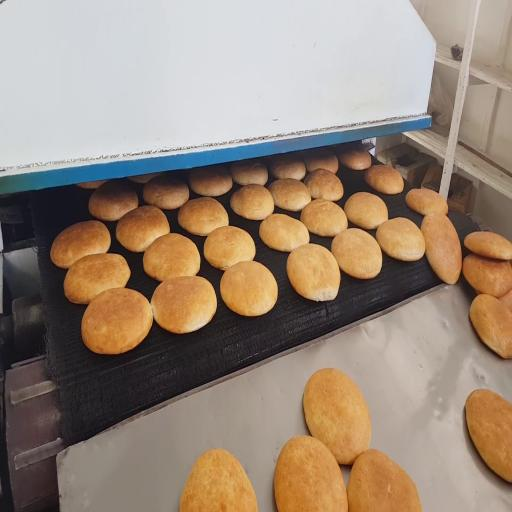bread: (303, 368, 370, 464), (274, 436, 347, 511), (180, 449, 257, 511), (82, 288, 152, 354), (347, 449, 421, 511), (466, 390, 511, 482), (151, 276, 216, 333), (64, 254, 130, 304), (220, 261, 277, 316), (287, 244, 340, 301), (421, 213, 462, 284), (51, 221, 110, 268), (143, 234, 200, 281), (470, 294, 511, 358), (332, 229, 382, 279), (116, 206, 169, 252), (204, 226, 255, 270), (376, 218, 425, 261), (463, 254, 511, 297), (89, 181, 138, 221), (178, 197, 228, 236), (259, 214, 309, 252), (301, 199, 347, 237), (143, 174, 189, 210), (344, 192, 388, 229), (230, 184, 274, 220), (268, 179, 311, 211), (464, 232, 511, 260), (189, 166, 232, 196), (304, 169, 343, 201), (365, 165, 403, 194), (406, 189, 448, 215), (270, 154, 305, 180), (230, 161, 267, 185), (304, 150, 338, 173), (338, 147, 371, 170), (128, 173, 163, 184), (77, 180, 108, 189), (500, 290, 511, 311)
